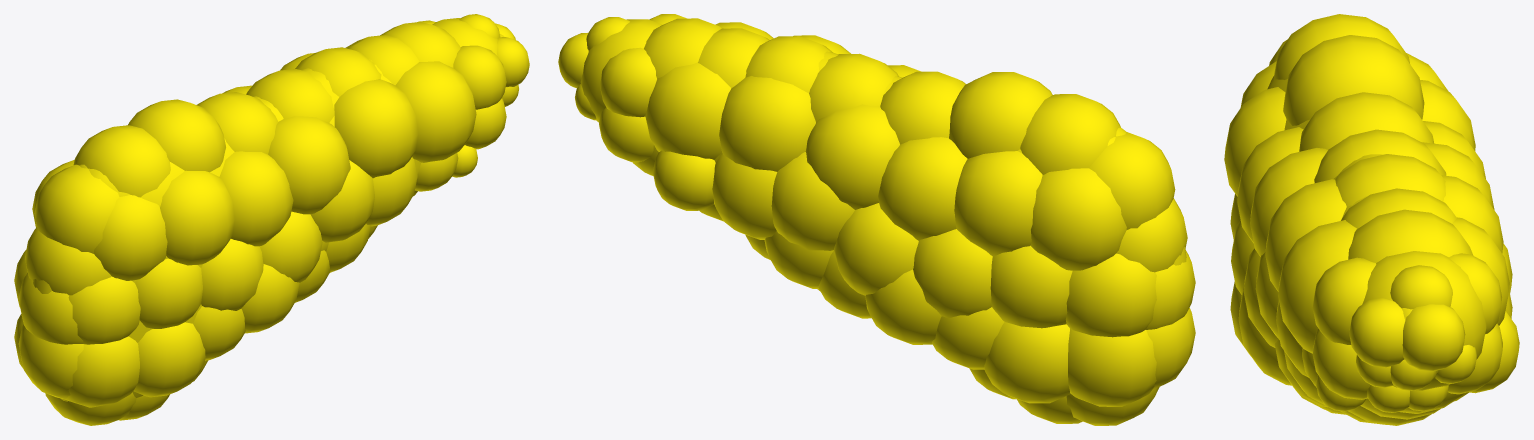
Rendered from Pancreas.fbx.
3 views of the same model, side by side, from view 1: azimuth 30°, elevation 25°; view 2: azimuth 150°, elevation 25°; view 3: azimuth 270°, elevation 25° (orthographic). The views are drawn at different scales.
Visible parts, largest first — view 1: Cube.008; view 2: Cube.008; view 3: Cube.008.
Part boxes in pixels (x1,y1,x2,y2): Cube.008: (14, 14, 529, 425); Cube.008: (558, 14, 1195, 425); Cube.008: (1224, 14, 1519, 425).
Size of the model in its own units: 24.14 by 13.02 by 8.77.
